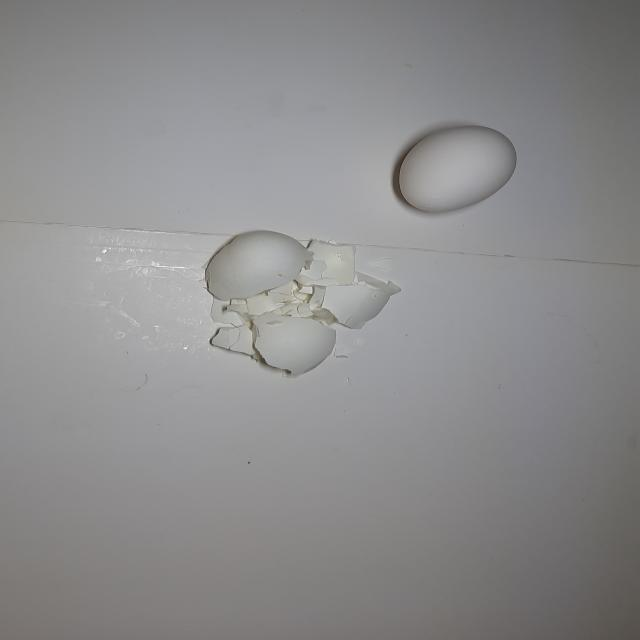egg shell: (389, 121, 523, 218), (208, 229, 308, 298), (250, 314, 338, 384), (325, 268, 407, 334), (298, 238, 367, 282), (214, 318, 247, 352)
